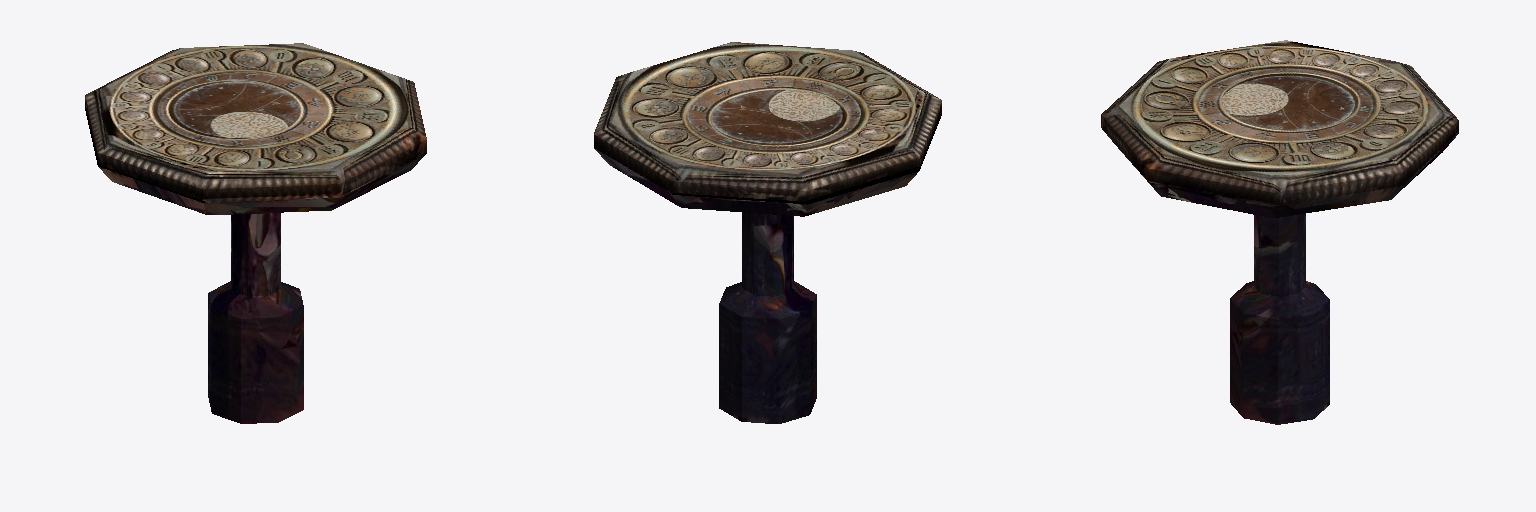
The picture shows the model from 3 angles: view 1: azimuth 30°, elevation 25°; view 2: azimuth 150°, elevation 25°; view 3: azimuth 270°, elevation 25°; orthographic projection.
Visible parts, largest first — view 1: LivingRoom_Center_Table_LivingRoom_GEO_GRP; view 2: LivingRoom_Center_Table_LivingRoom_GEO_GRP; view 3: LivingRoom_Center_Table_LivingRoom_GEO_GRP.
Boxes of the visible parts, x1,y1,x2,y2 form: LivingRoom_Center_Table_LivingRoom_GEO_GRP: [85, 43, 426, 423]; LivingRoom_Center_Table_LivingRoom_GEO_GRP: [594, 42, 941, 423]; LivingRoom_Center_Table_LivingRoom_GEO_GRP: [1101, 40, 1458, 424].
Bounding box in the file's own units: 1.14 × 1.04 × 1.14.
1 materials, 1 textured.